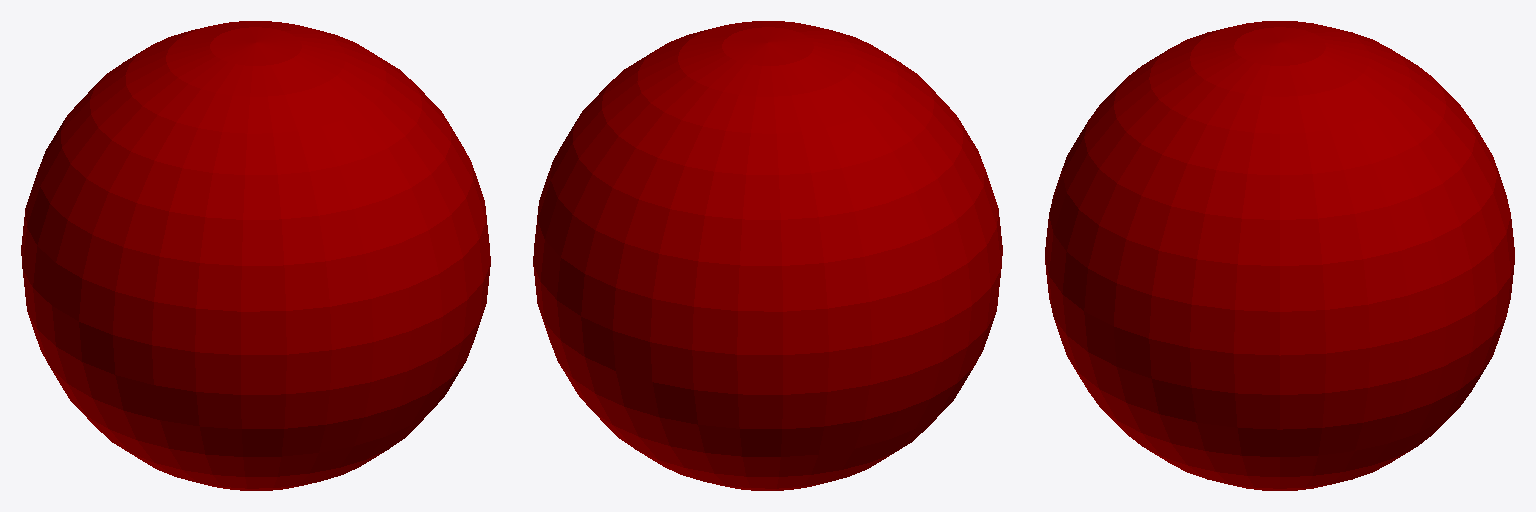
File: ball_red.obj
3 views of the same model, side by side, from view 1: azimuth 30°, elevation 25°; view 2: azimuth 150°, elevation 25°; view 3: azimuth 270°, elevation 25° (orthographic).
Visible parts, largest first — view 1: Sphere; view 2: Sphere; view 3: Sphere.
Part boxes in pixels (x1,y1,x2,y2): Sphere: (21,21,490,490); Sphere: (533,21,1002,490); Sphere: (1045,21,1514,490).
Size of the model in its own units: 2 by 2 by 2.